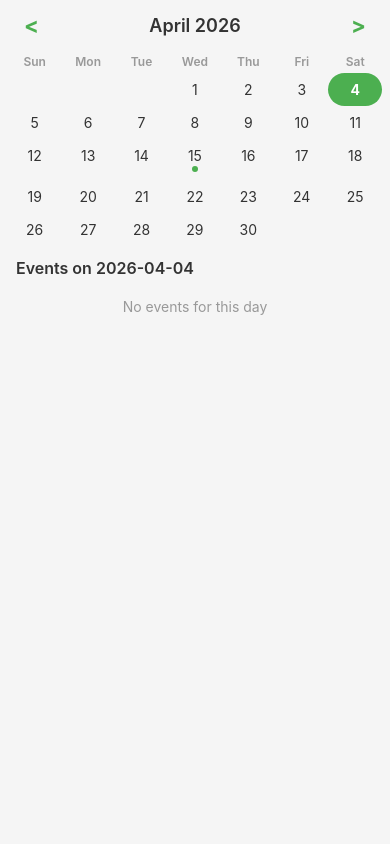
Test case: CalendarScreen › shows events when a day with events is selected
The image size is (390, 844).
Click the element with test id "day-15" at (195, 160), box [188,147,202,172]
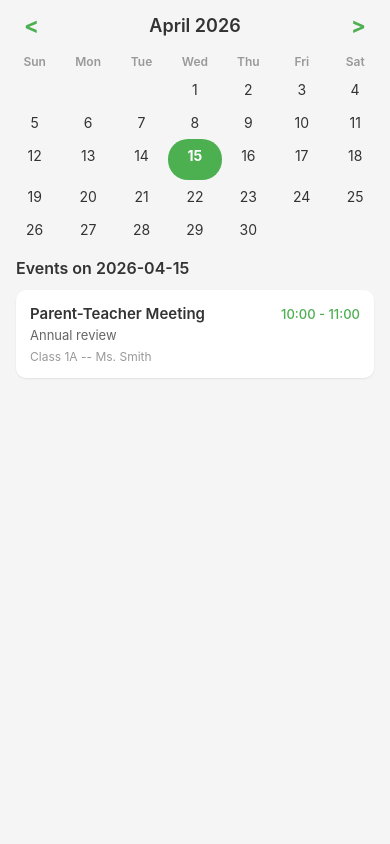
Now the text "Parent-Teacher Meeting" is shown, box [30,304,205,323]
Now the text "10:00 - 11:00" is shown, box [281,306,360,322]
Now the text "Annual review" is shown, box [30,327,117,343]
